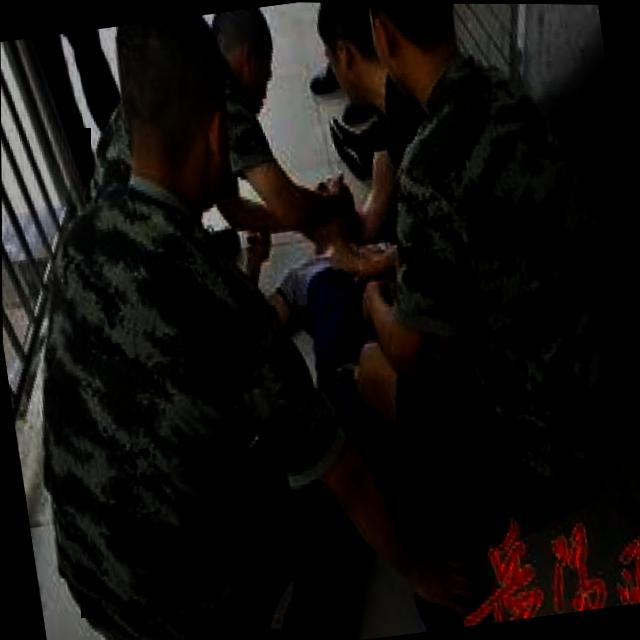Fall-Detected: (218, 111, 465, 640)
